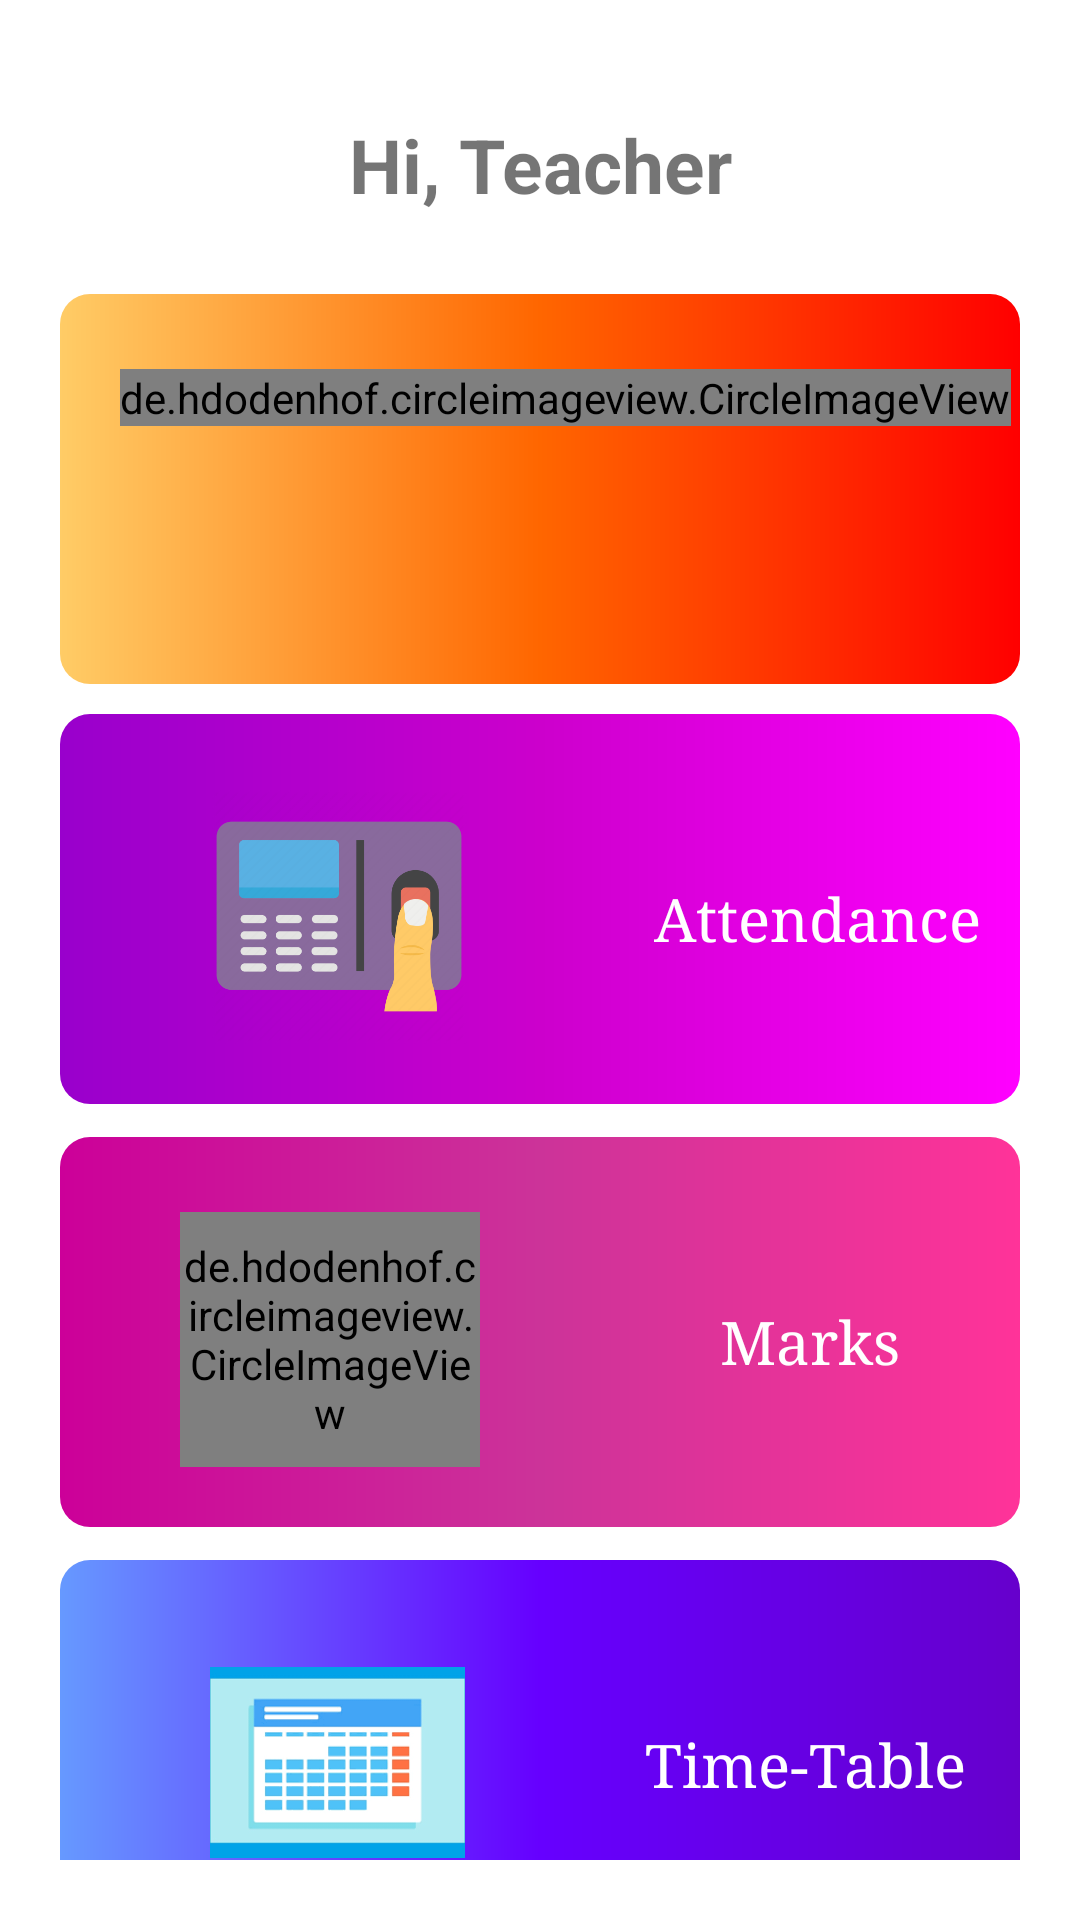

Named icons in this screenshot (1080w x 1920h) and their centers, [x,y]:
timetable: [337,1762]
